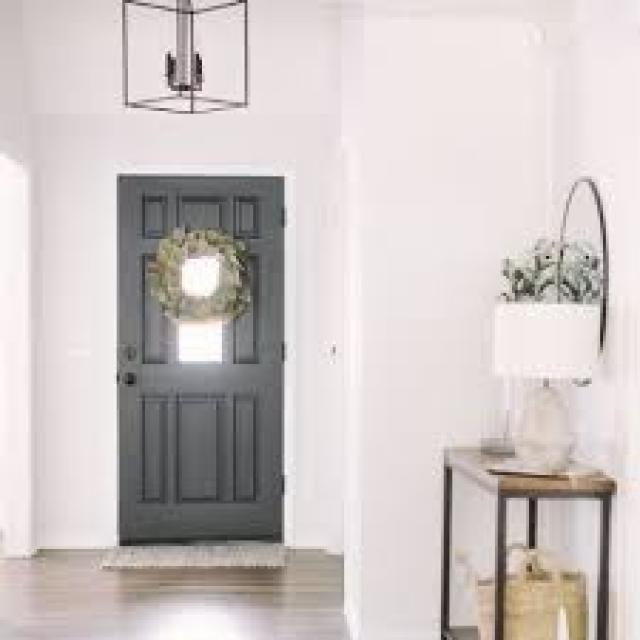door: (115, 174, 286, 544)
